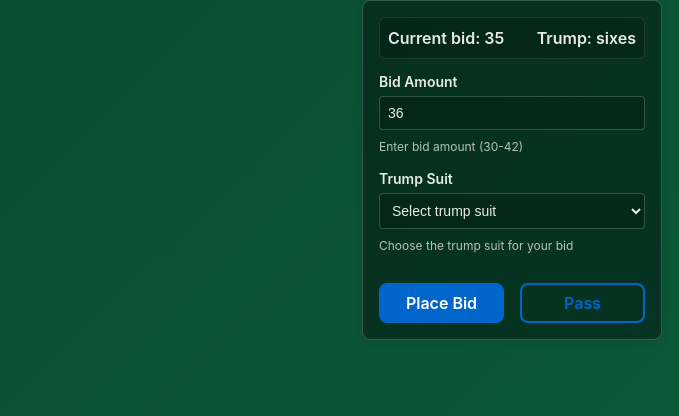
Test: BiddingPanel › Bid Validation › shows error when bid is not higher than current bid
This screenshot has width=679, height=416.
Step 1. Replace the text in the number field labelled "Bid Amount" with "35" → (512, 113), box [379,96,645,130]
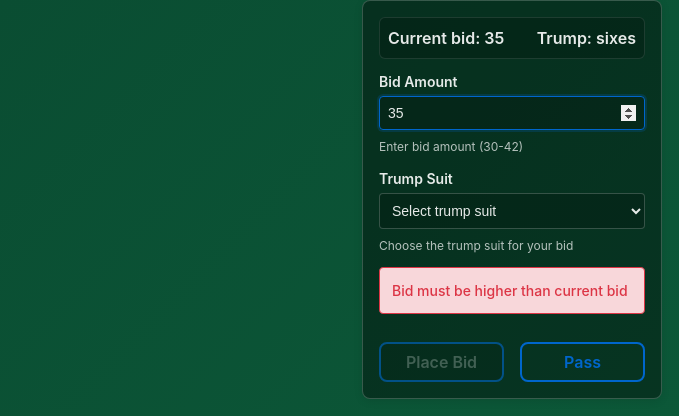
expect the text "Bid must be higher than current bid" is shown: met, box [379,267,645,314]
